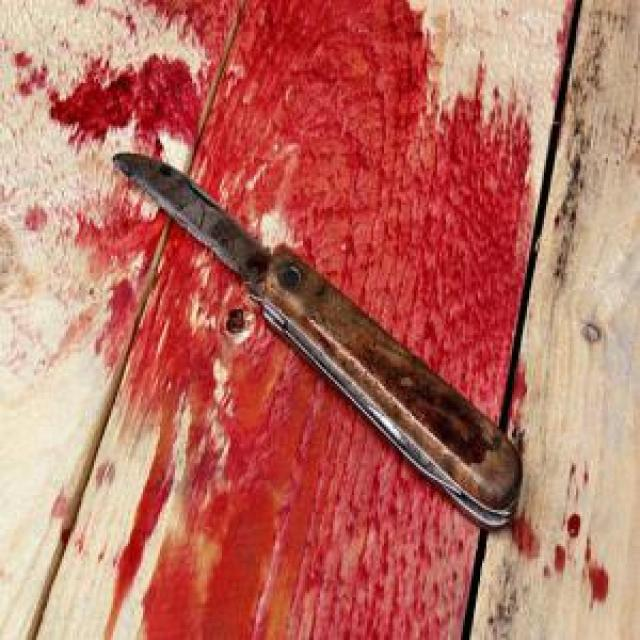knife: (113, 149, 517, 543)
